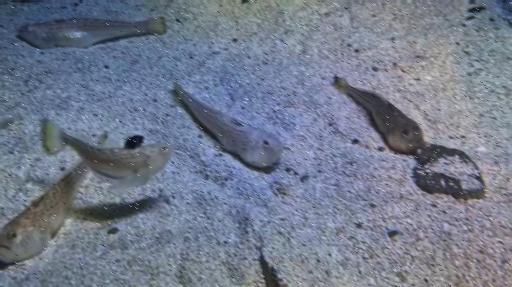Fish: (41, 120, 174, 195), (174, 80, 283, 167), (0, 160, 90, 263), (336, 75, 425, 154), (18, 16, 166, 48), (259, 246, 281, 286)
